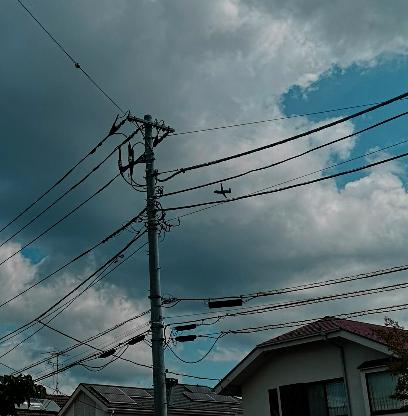P3: (212, 182, 229, 198)
